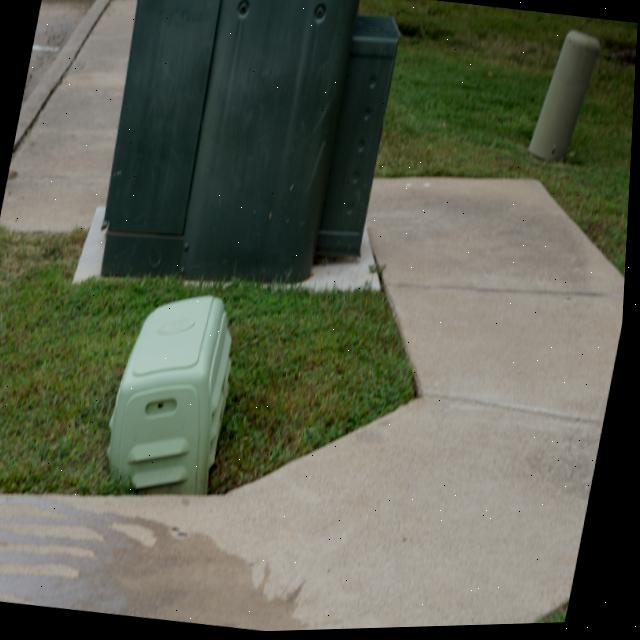Obstacle: (77, 0, 400, 293), (112, 297, 236, 496), (530, 34, 600, 165)
Road: (23, 0, 95, 106)
Sidewalk: (0, 180, 628, 633), (2, 0, 136, 231)
